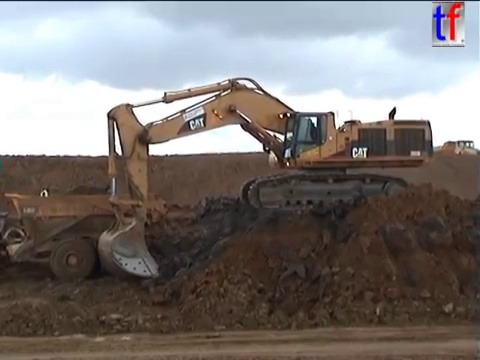excavator: (93, 73, 435, 283)
truck: (1, 191, 170, 283), (421, 139, 480, 165)
worker: (36, 183, 50, 210)
